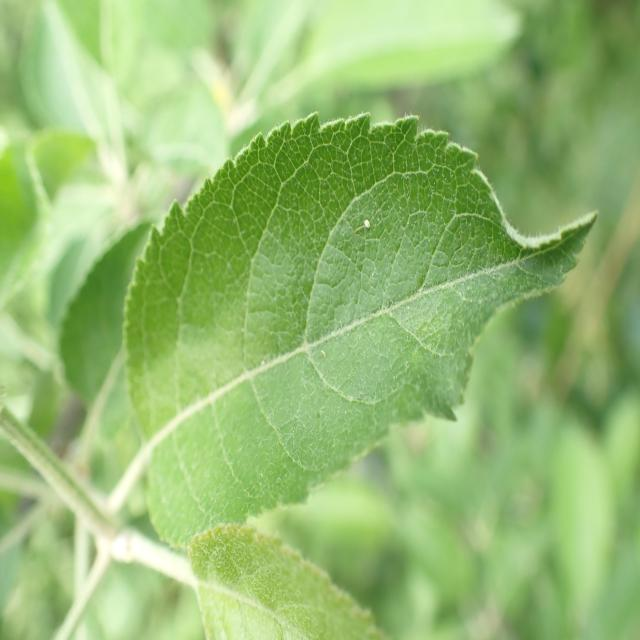healthy: (122, 109, 600, 552), (188, 524, 389, 640)
